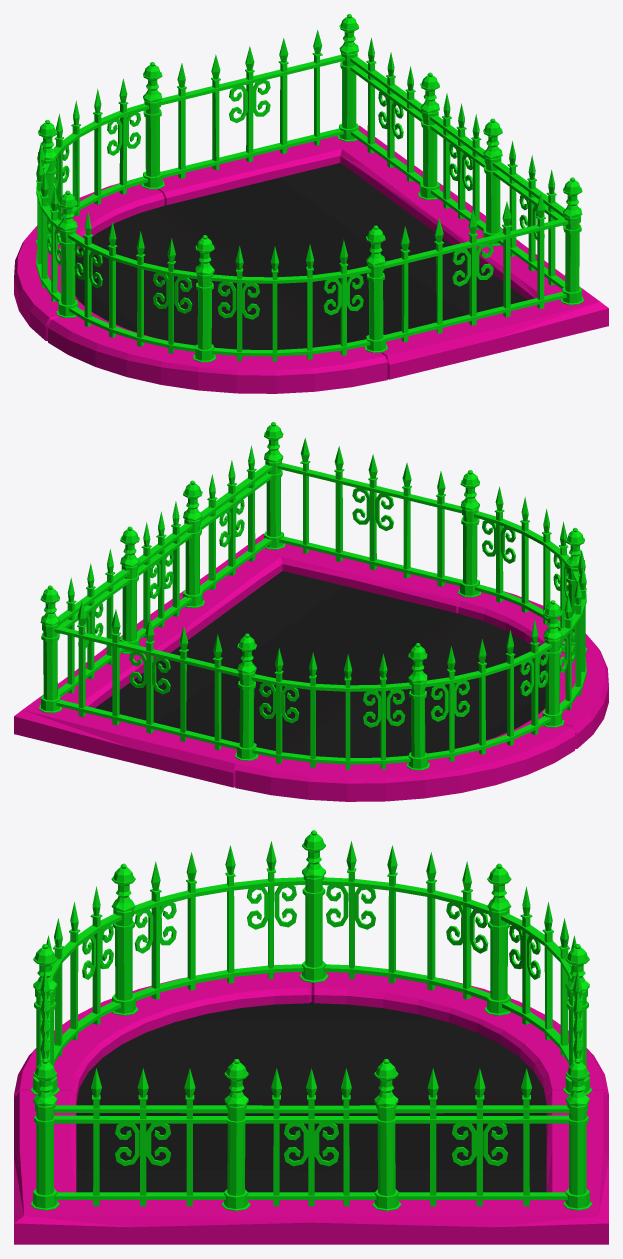
Rendered from City_Fence06.fbx.
3 renders of one model, top to bottom at view 1: azimuth 30°, elevation 25°; view 2: azimuth 150°, elevation 25°; view 3: azimuth 270°, elevation 25°, orthographic. The views are drawn at different scales.
Parts seen in each view (by area): view 1: SM_City_Fence_04_Divider_01c.mo; view 2: SM_City_Fence_04_Divider_01c.mo; view 3: SM_City_Fence_04_Divider_01c.mo.
Boxes of the visible parts, left/top/right/bottom form: SM_City_Fence_04_Divider_01c.mo: left=14, top=14, right=608, bottom=393; SM_City_Fence_04_Divider_01c.mo: left=14, top=422, right=608, bottom=801; SM_City_Fence_04_Divider_01c.mo: left=14, top=830, right=608, bottom=1244.
Size of the model in its own units: 357 by 113 by 352.
